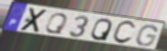3: (68, 15, 90, 39)
C: (111, 20, 137, 45)
G: (134, 24, 159, 47)
Q: (89, 18, 114, 42), (43, 13, 70, 35)
X: (18, 7, 50, 34)
